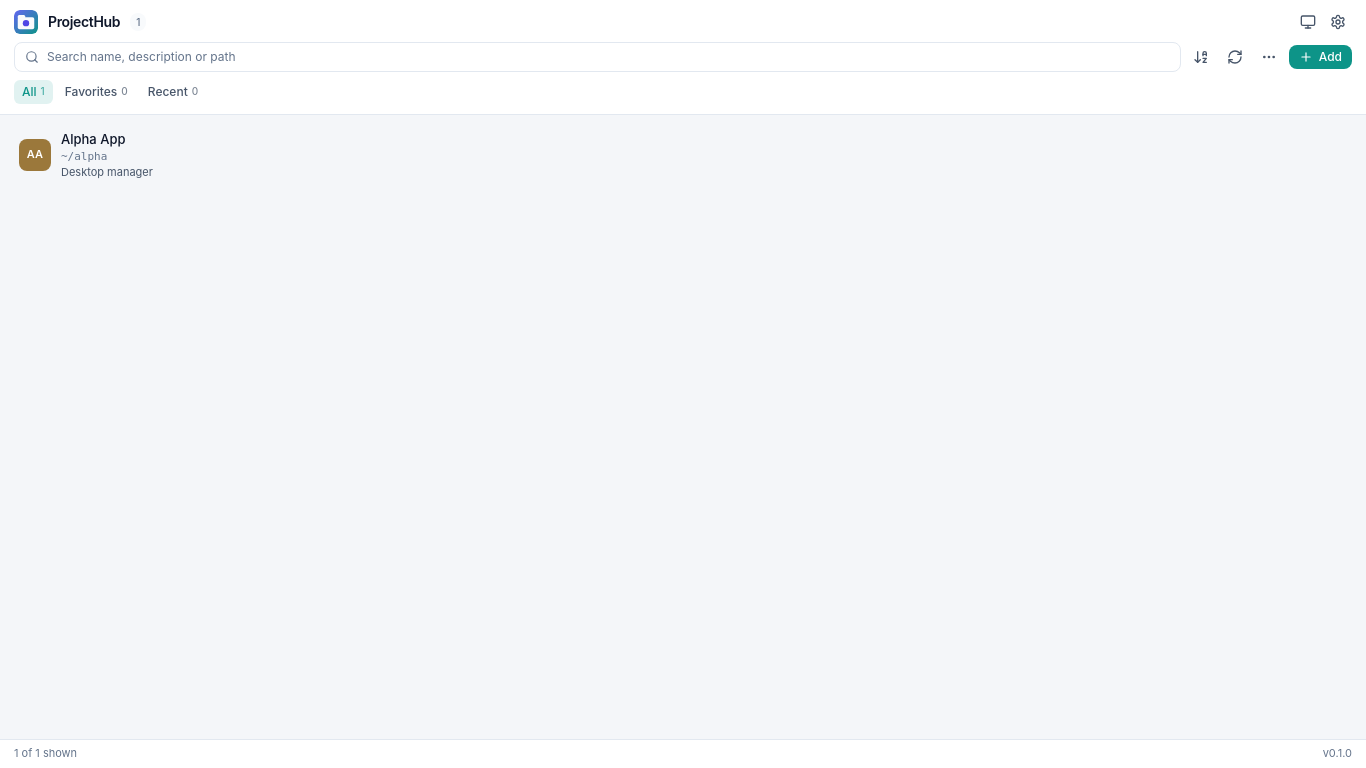
Test case: App › Delete opens removal confirmation and Cancel handles the project
Press Delete in the option "AA Alpha App ~/alpha Desktop manager", box [19,131,153,179]
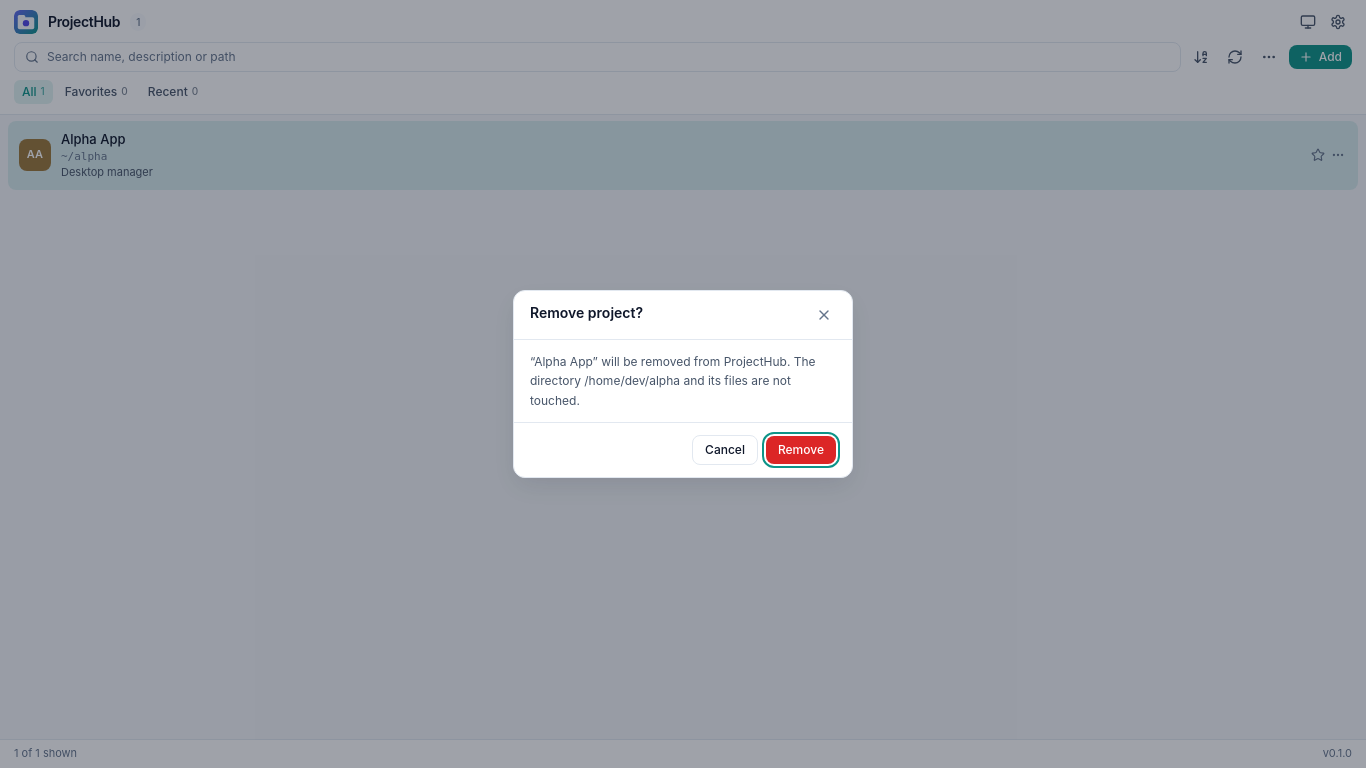
Expected: the dialog shows "Remove project?", [530,304,643,321]
Expected: the dialog shows "Alpha App", [530,354,816,408]
Expected: the dialog shows "/home/dev/alpha", [530,354,816,408]
Click the button "Cancel" at (725, 450), box [692,435,758,465]
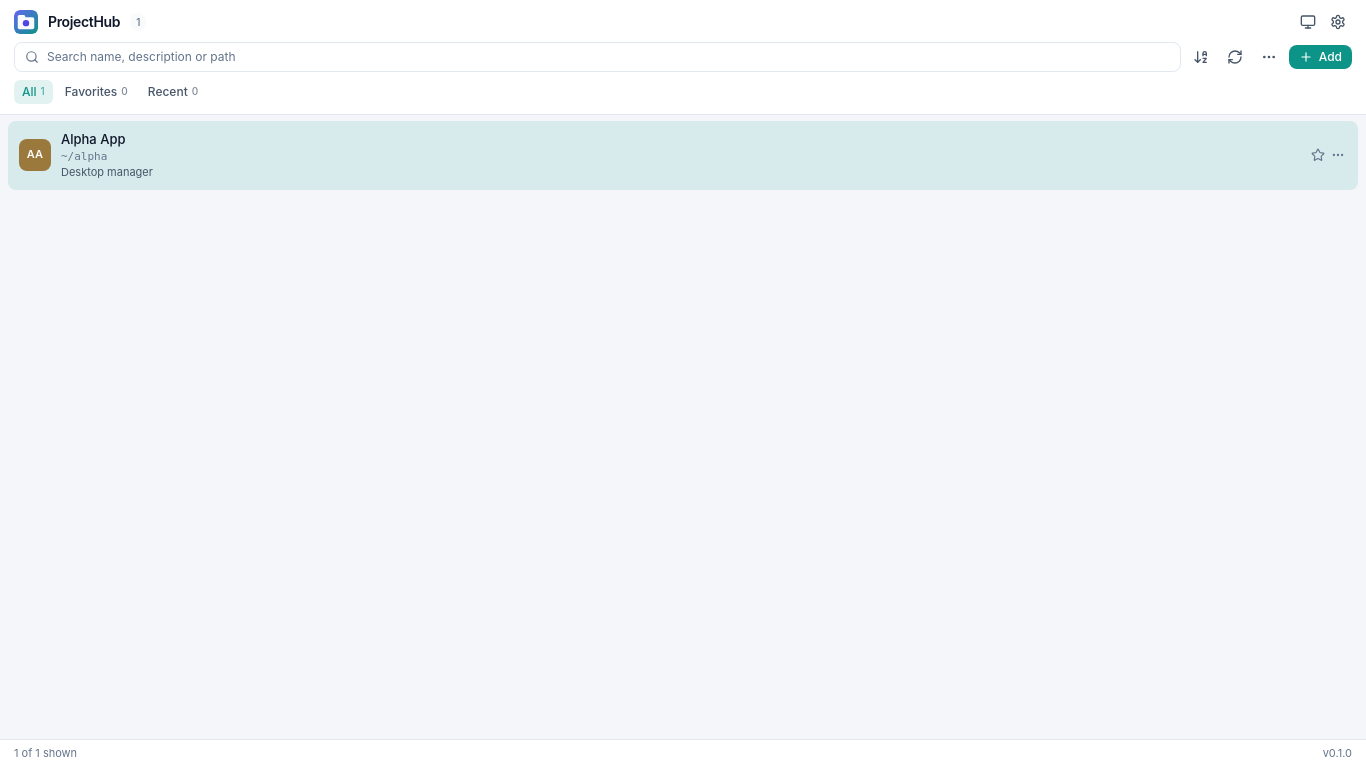
Expected: the dialog is gone
